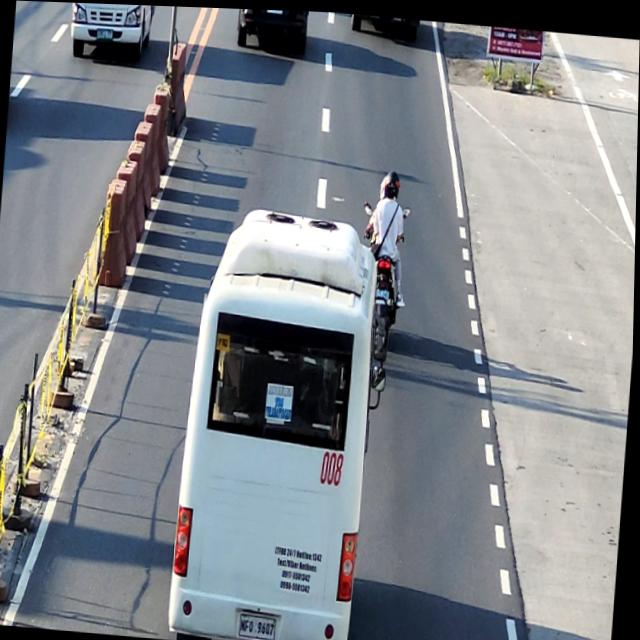Bus: (171, 199, 384, 640)
Car: (234, 7, 308, 50)
License-Plate: (241, 613, 279, 639), (377, 286, 391, 302), (266, 8, 282, 11)
Motorcycle: (354, 200, 411, 360)
